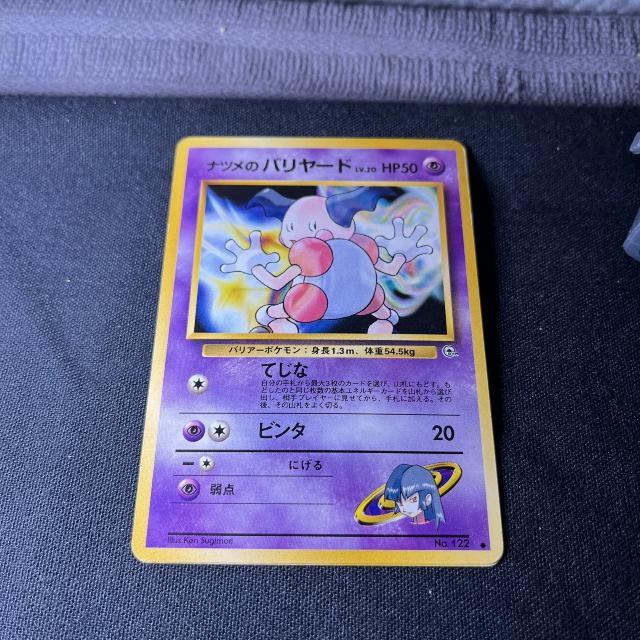Card: (126, 130, 512, 571)
Name: (199, 151, 357, 181)
